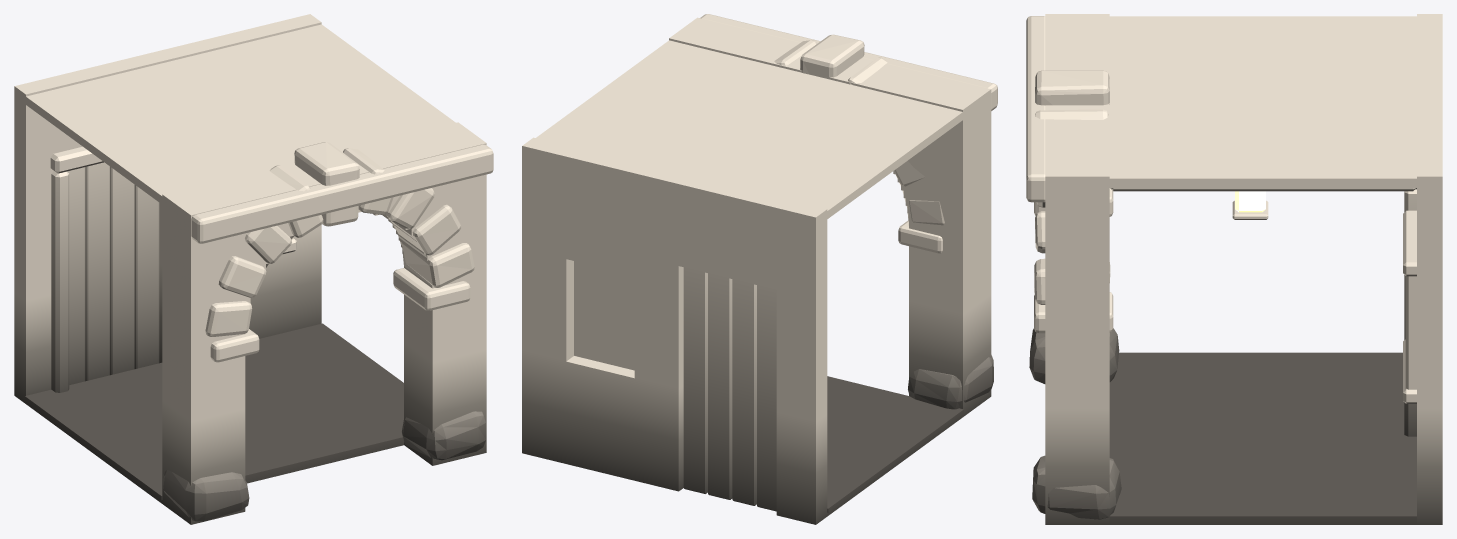
Rendered from SM_VK_Wall_Arcade.fbx.
3 renders of one model, left to right at view 1: azimuth 30°, elevation 25°; view 2: azimuth 150°, elevation 25°; view 3: azimuth 270°, elevation 25°, orthographic. The views are drawn at different scales.
Parts seen in each view (by area): view 1: SM_VK_Wall_Arcade.001; view 2: SM_VK_Wall_Arcade.001; view 3: SM_VK_Wall_Arcade.001.
Boxes of the visible parts, x1,y1,x2,y2 form: SM_VK_Wall_Arcade.001: [14, 14, 493, 524]; SM_VK_Wall_Arcade.001: [522, 14, 997, 524]; SM_VK_Wall_Arcade.001: [1026, 14, 1442, 524].
Size of the model in its own units: 3.08 by 3.16 by 3.25.
